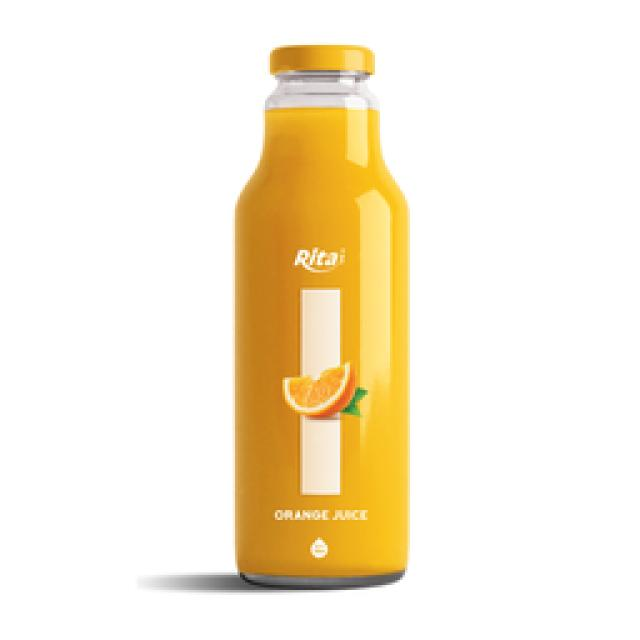glass_beverage_bottles: (227, 43, 413, 592)
